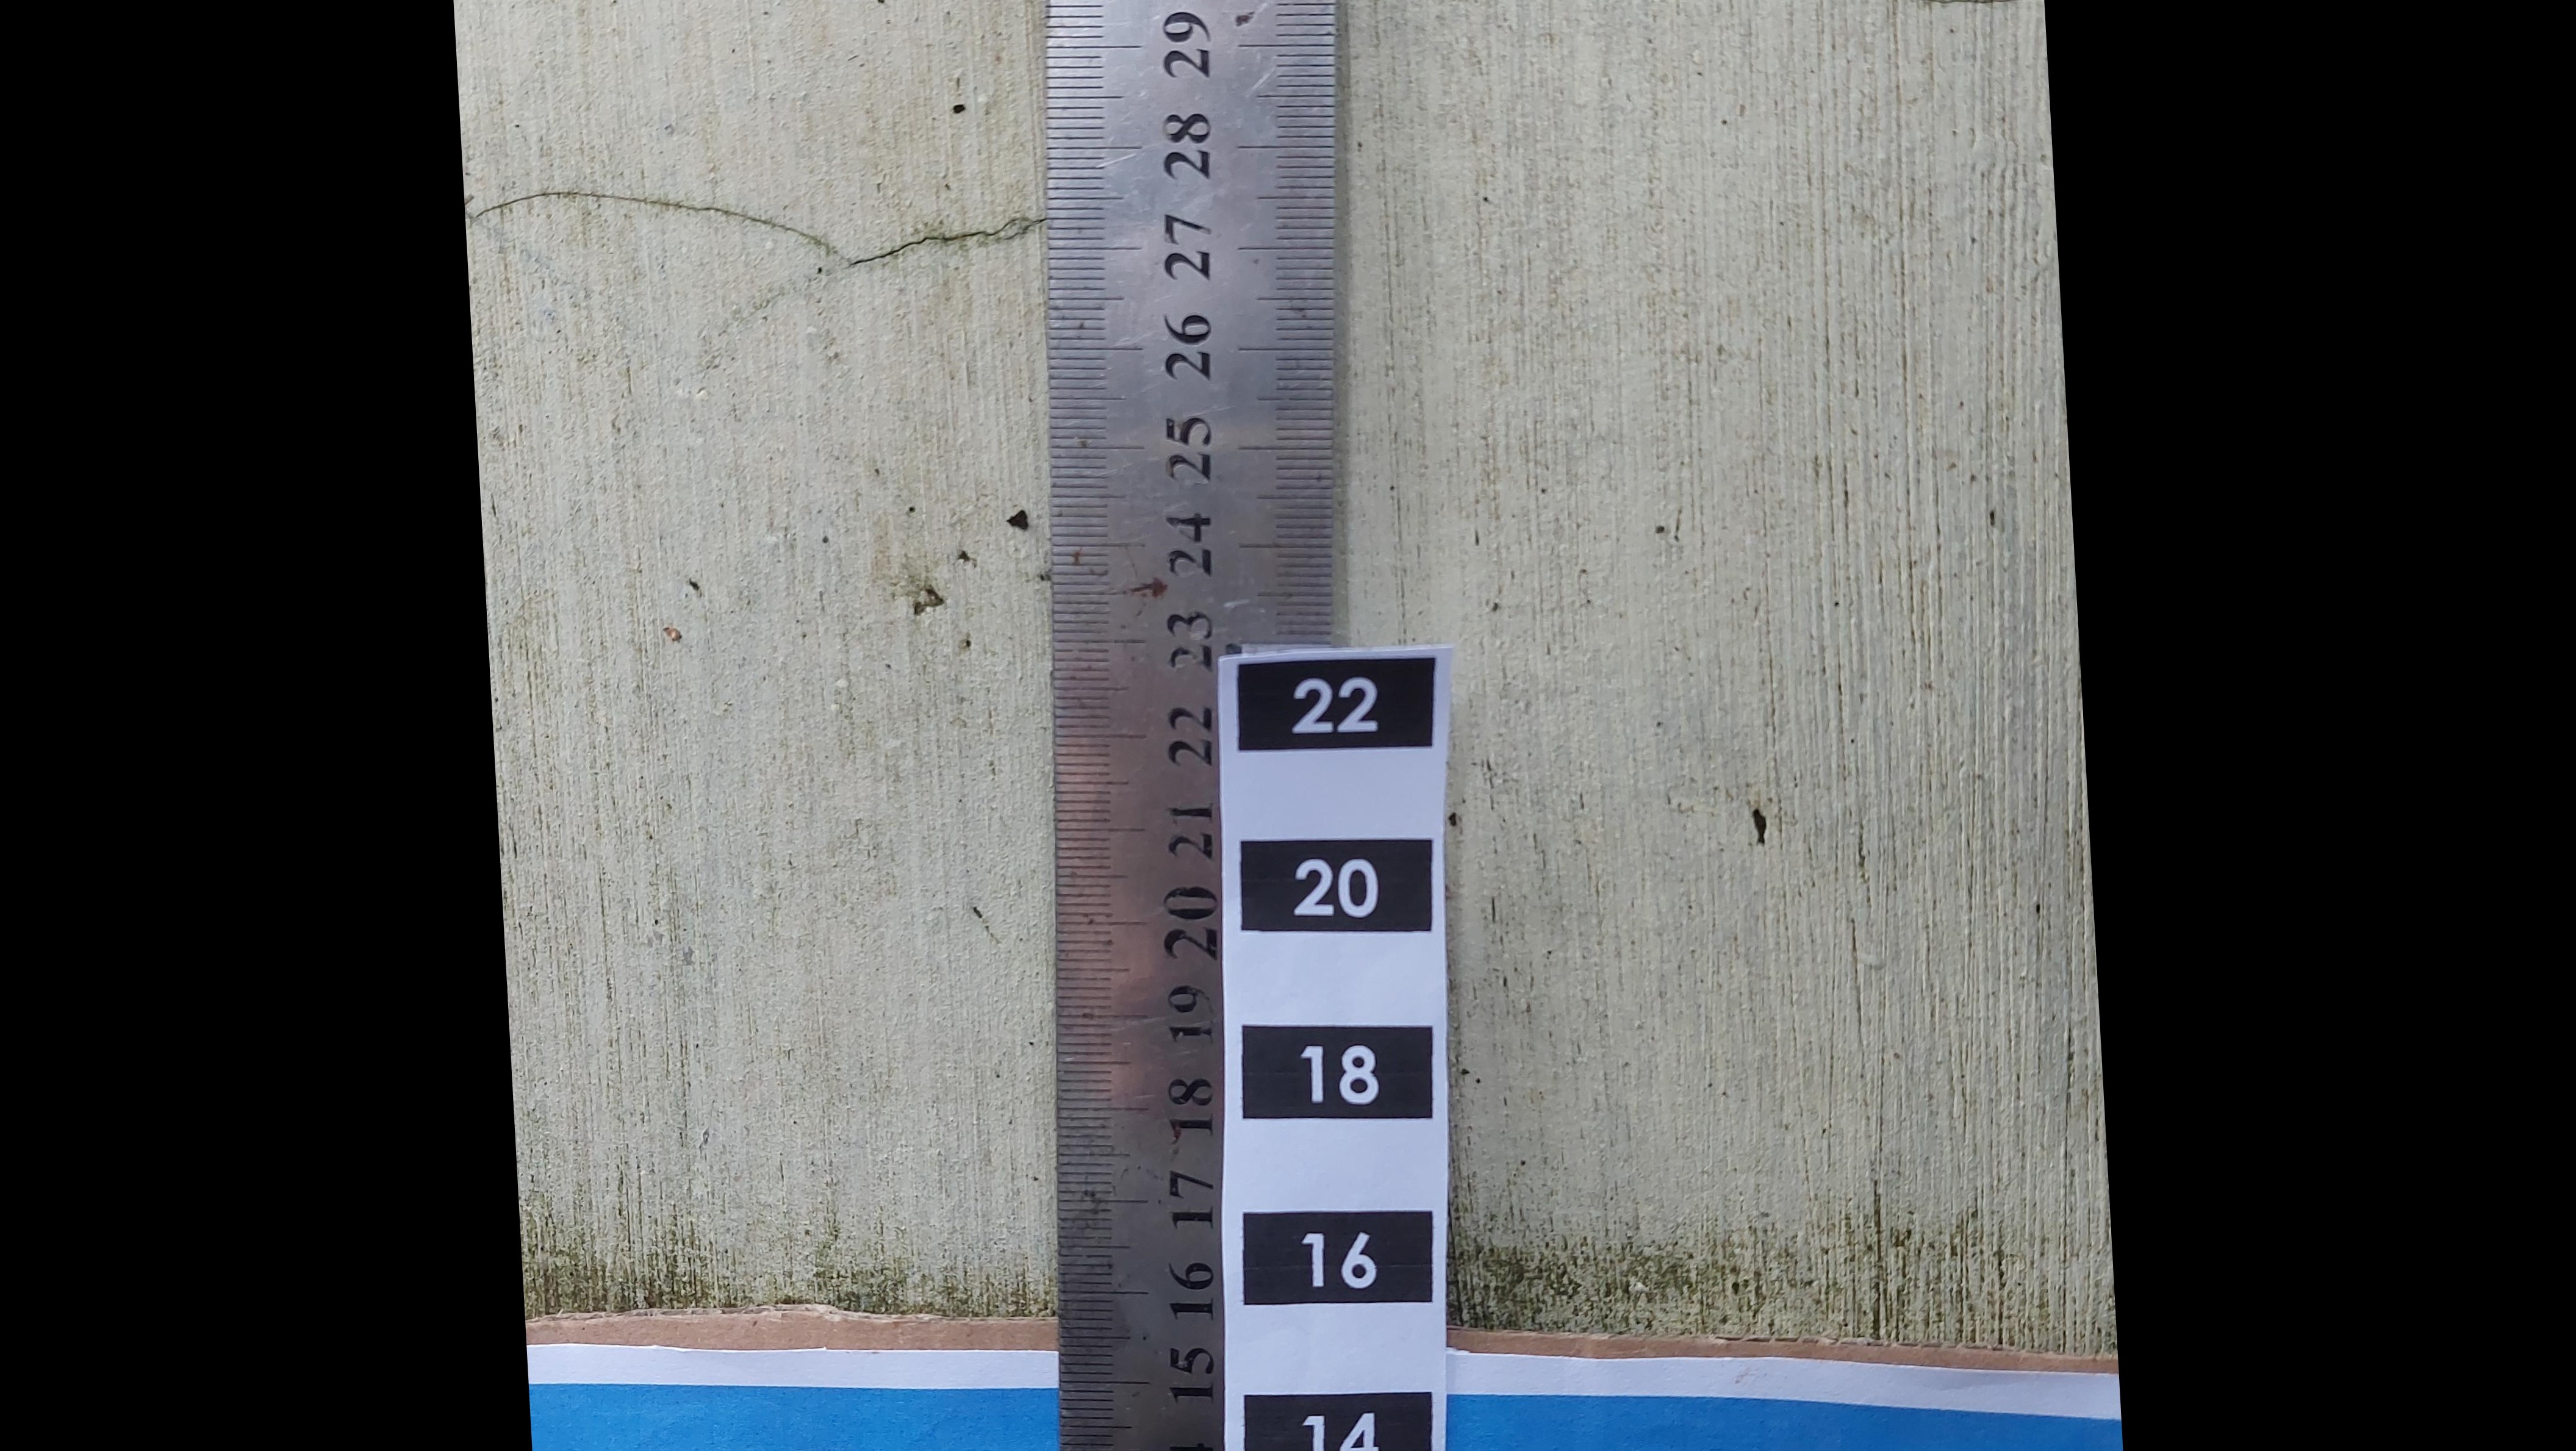kotak_2x1: (1242, 841, 1435, 934), (1240, 1023, 1431, 1117), (1237, 660, 1433, 750), (1240, 1214, 1437, 1304)
